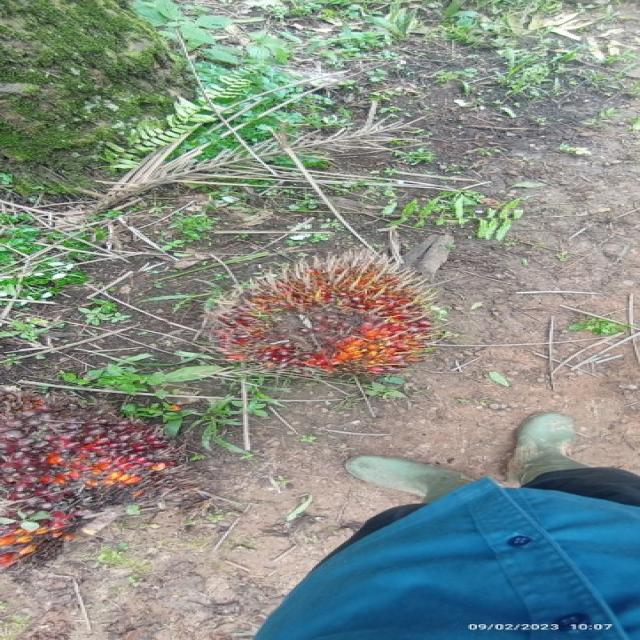fraksi 3: (205, 231, 447, 412)
